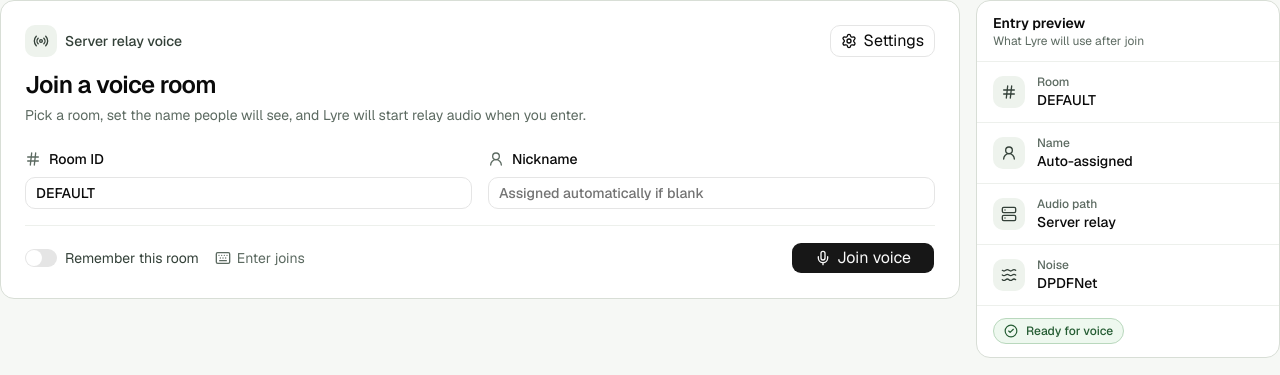
Test: Home › shows a recoverable error when joining fails
Click the button "Join voice".
click(863, 258)  # box [791,242,935,274]
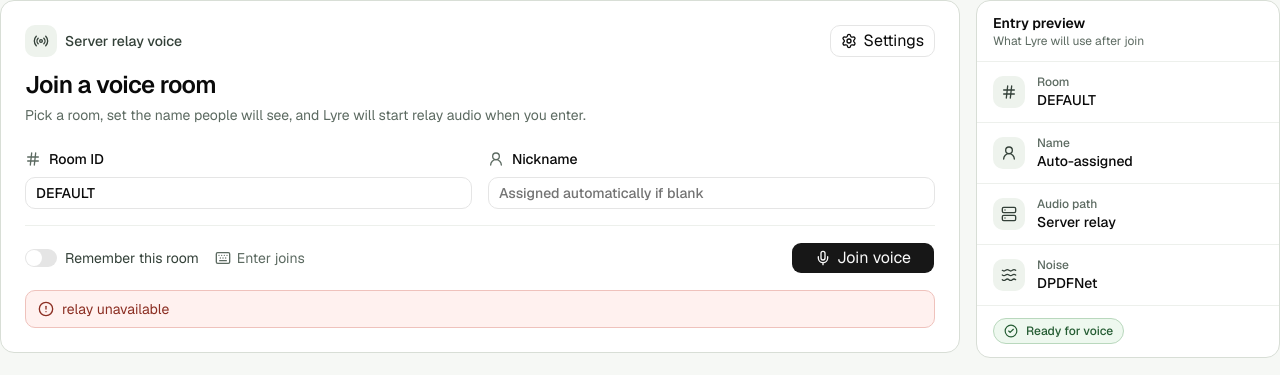
Expected: the message reads "relay unavailable", [62,300,169,318]
